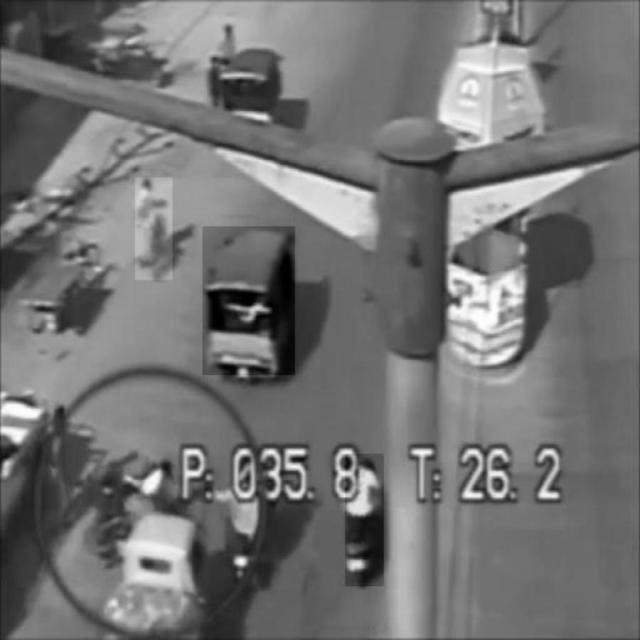vehicle: (203, 227, 295, 375), (103, 506, 201, 640), (345, 454, 383, 586), (134, 178, 172, 280)
